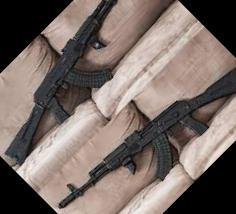larga: (58, 68, 236, 209), (4, 0, 117, 166)
